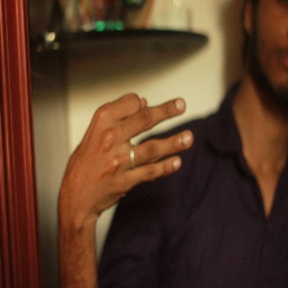K: (58, 92, 195, 199)
